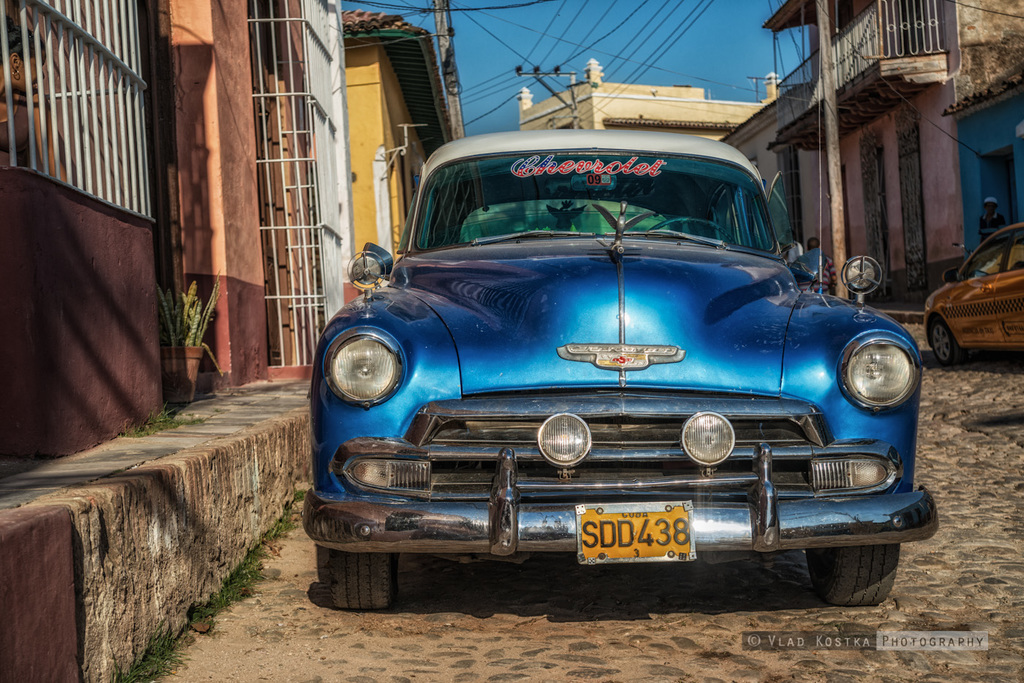Car: (302, 126, 939, 605), (923, 222, 1023, 364)
